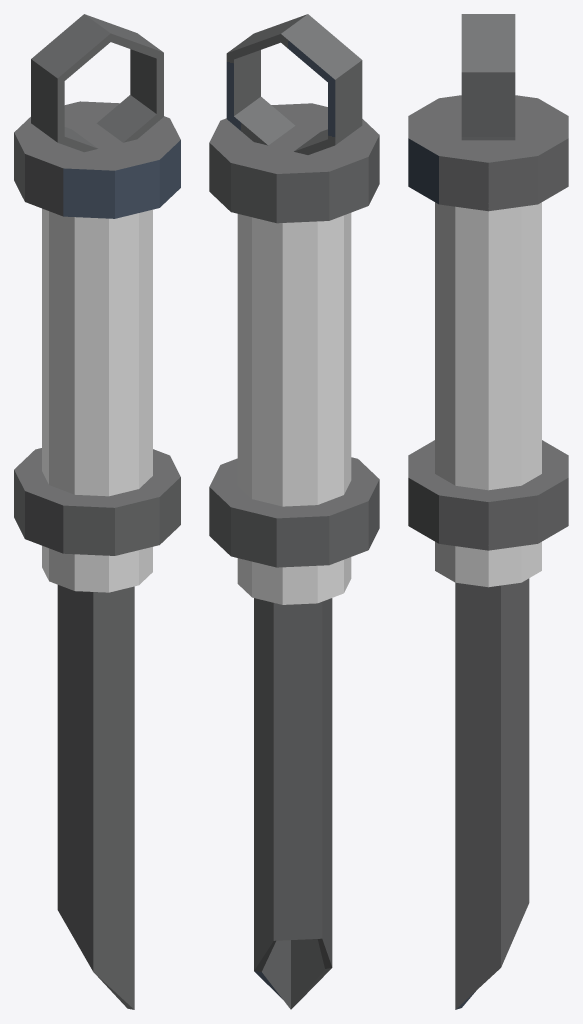
File: obj_syringe.obj
The picture shows the model from 3 angles, left to right: view 1: azimuth 30°, elevation 25°; view 2: azimuth 150°, elevation 25°; view 3: azimuth 270°, elevation 25°; orthographic projection. The views are drawn at different scales.
Parts seen in each view (by area): view 1: tube; view 2: tube; view 3: tube.
Boxes of the visible parts, x1,y1,x2,y2 form: tube: [14, 14, 180, 1009]; tube: [209, 14, 379, 1009]; tube: [408, 14, 568, 1009].
Size of the model in its own units: 0.1971 by 1.27 by 0.1875.
1 material, 1 textured.
